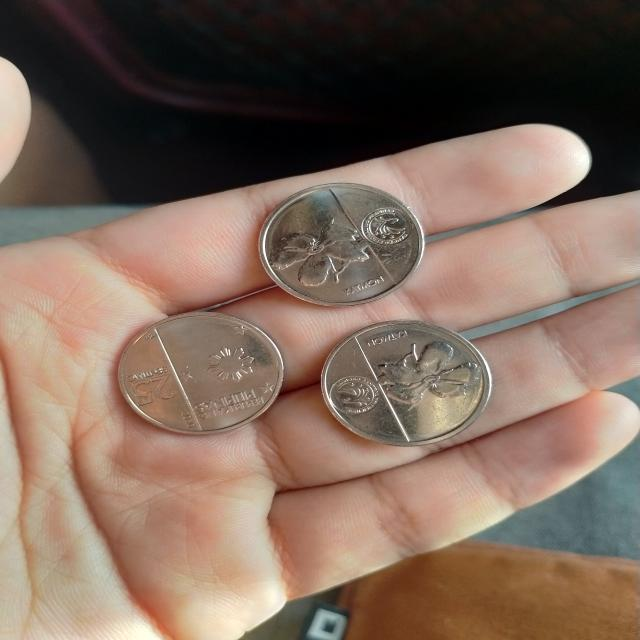25Cent_New_Back: (376, 342, 486, 403), (269, 220, 370, 286)
25Cent_New_Front: (126, 362, 184, 413)
